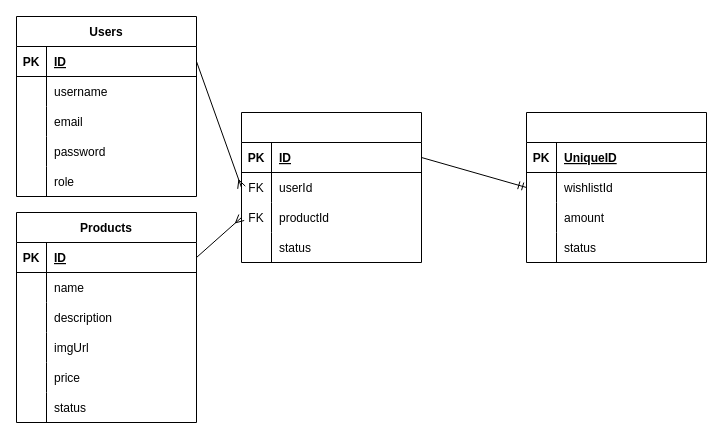
Some shapes in this 723 by 439 pixel diagram are drawn without their labels. Each missing label, with the box of its shape:
Transaction: (526, 112, 706, 262)
wishlists: (240, 112, 422, 262)
